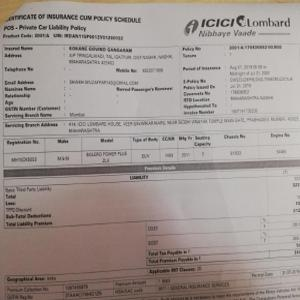image: (179, 14, 295, 39)
table: (1, 159, 300, 300), (4, 135, 300, 170)
text: (2, 44, 300, 120)
